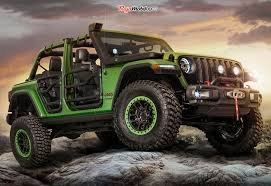mobil: (4, 29, 264, 167)
